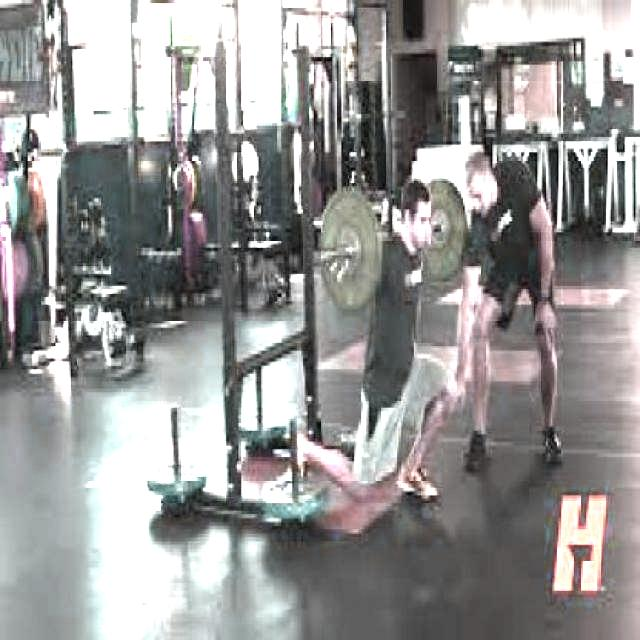barbell: (310, 183, 382, 317)
